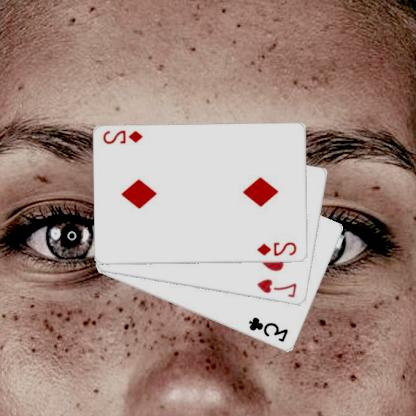2D: (102, 128, 146, 146), (257, 240, 300, 258)
3C: (248, 315, 291, 344)
7H: (256, 276, 300, 300)
